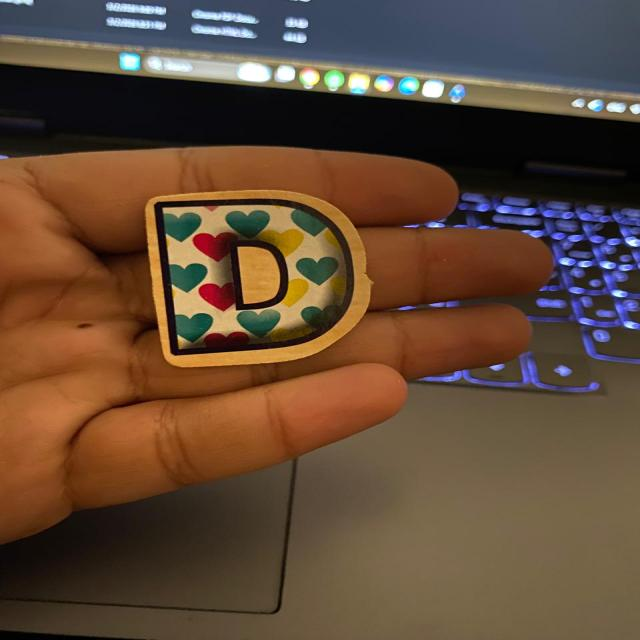D: (147, 190, 371, 367)
